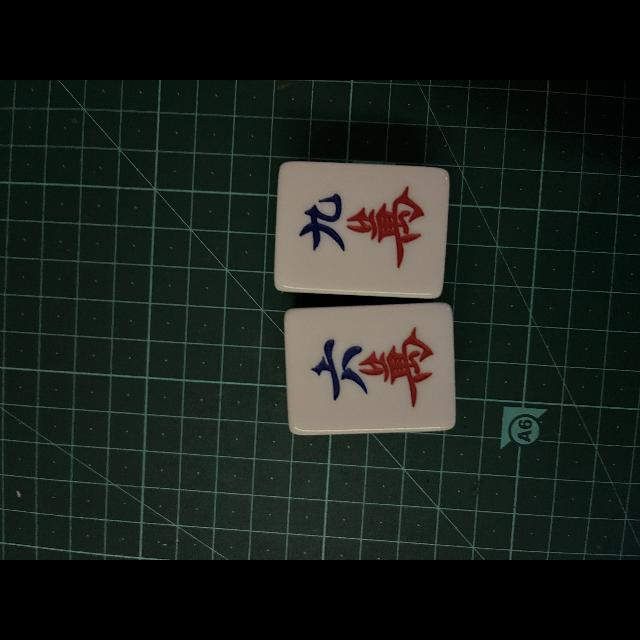c6: (287, 310, 453, 428)
c9: (278, 164, 444, 290)
